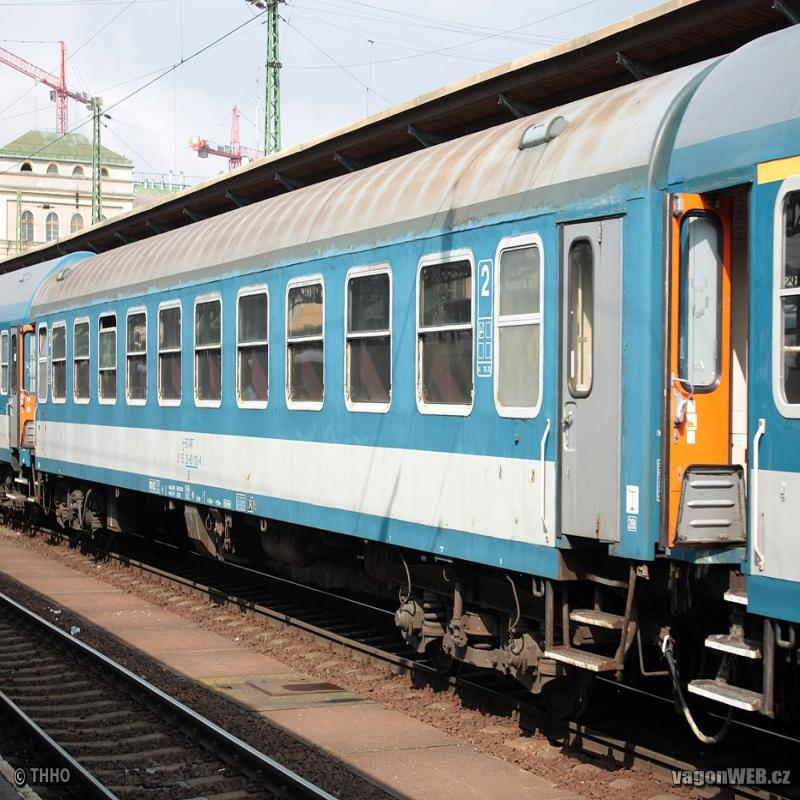train: (30, 56, 722, 756)
